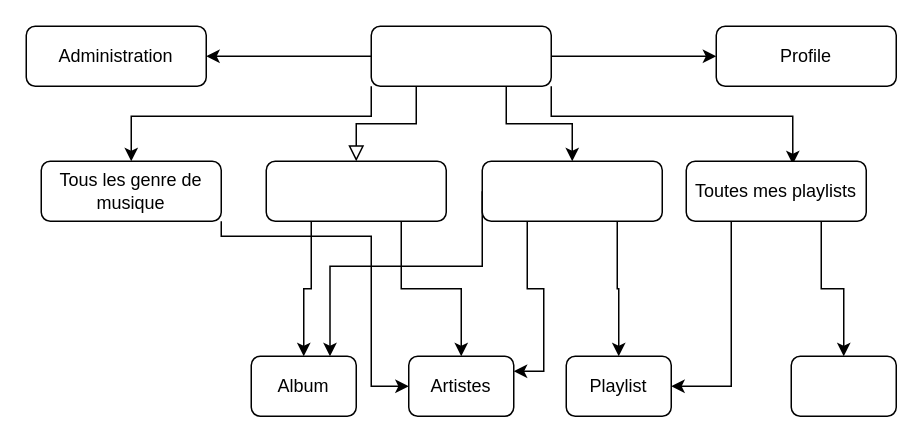
Image size: 923x443. Some labels were removed from this diagram. The shapes that lost their labels are listed below. From the top down, each one's box as (x1, y1, x2, y2) in pixels, then its label:
(370, 25, 551, 86): Home
(265, 160, 446, 221): Rechercher musique
(481, 160, 662, 221): Mes coups de coeurs
(790, 355, 896, 416): Playlist des utilisateurs
